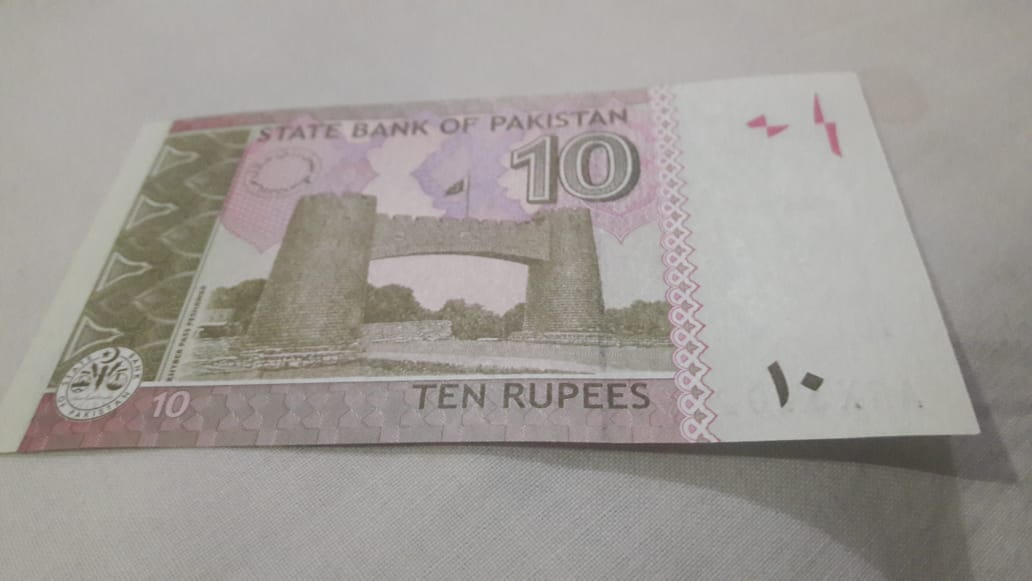10 rupee: (5, 73, 977, 441)
